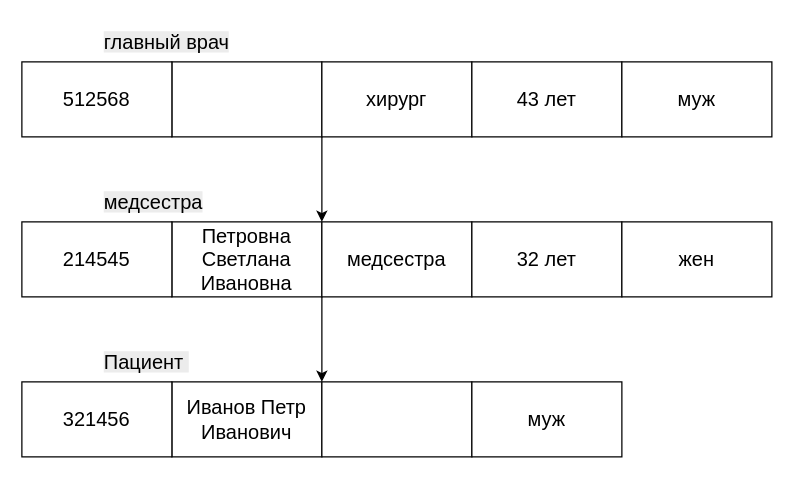
Image size: 794x479. Some labels were removed from this diagram. Each missing label, with the centre of its shape:
"26 лет" belongs at (x=396, y=419).
"Петров Иван Иванович" belongs at (x=246, y=99).
